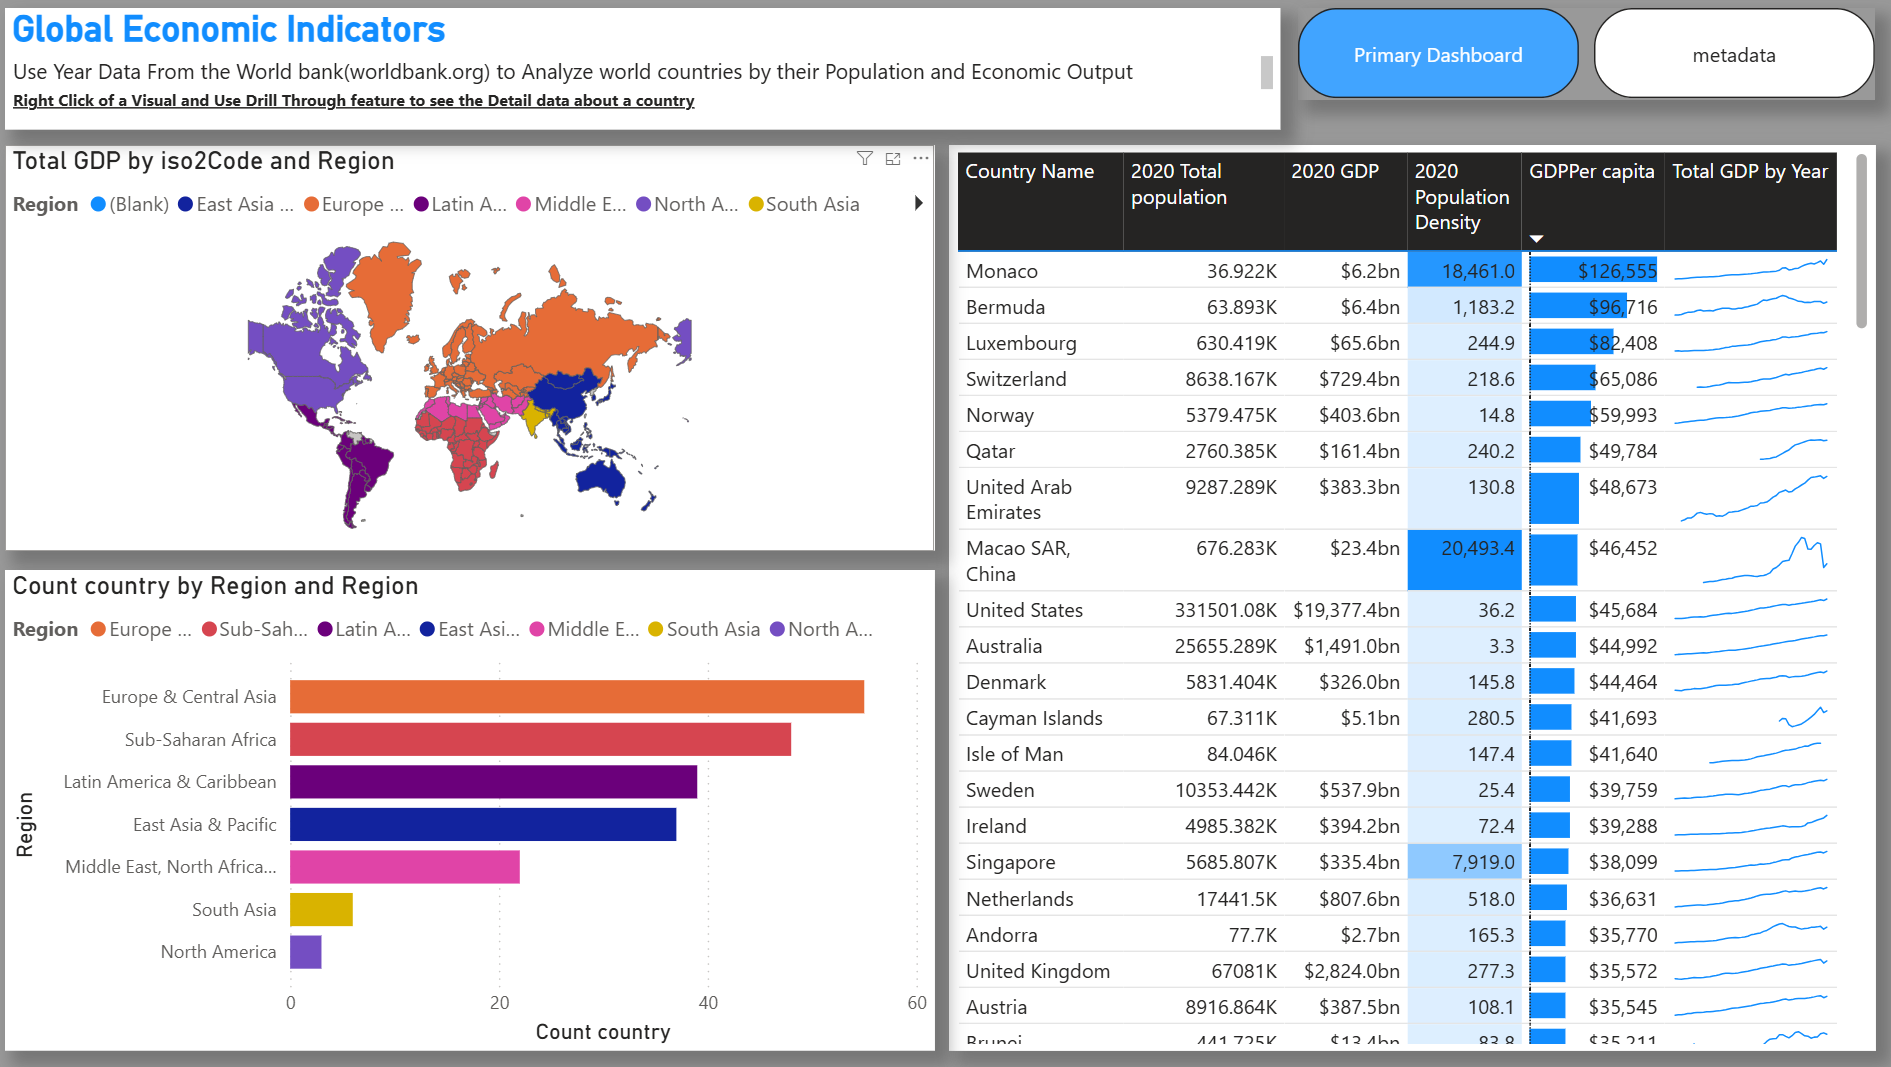

What the dashboard file says about the page in this screenshot:
{"tool":"powerbi","page":{"name":"Primary Dashboard","canvas":[1280,720],"ordinal":6},"visuals":[{"type":"tableEx","fields":{"Values":["Countries.Country Name","_MeasureTable.2020 Total population","_MeasureTable.2020 GDP","_MeasureTable.2020 Population Density","_MeasureTable.GDPPer capita","SparklineData(_MeasureTable.Total GDP_[Indicator.Year])"]},"box":[640,102.9,617.2,603.3],"z":0},{"type":"shapeMap","fields":{"Category":["Countries.iso2Code"],"Series":["Countries.Region"],"Value":["_MeasureTable.Total GDP"]},"box":[11.8,102.9,618.7,270.4],"z":1000},{"type":"barChart","fields":{"Y":["_MeasureTable.Count country"],"Category":["Countries.Region"],"Series":["Countries.Region"]},"box":[11.8,385.8,618.7,319.6],"z":2000},{"type":"textbox","title":"Global  Economic Indicators","box":[11.8,11.8,848.7,80.8],"z":3000},{"type":"pageNavigator","box":[872.9,11.8,384.3,61],"z":4000}]}

Visuals, with their boxes in screenshot pixels (x1, y1, x2, y2), scaled from the page's 1280x720 canvas onto the 1891x1067 screenshot:
tableEx - Countries.Country Name x _MeasureTable.2020 Total population: 946 152 1857 1047
shapeMap - Countries.iso2Code x Countries.Region: 17 152 931 553
barChart - _MeasureTable.Count country x Countries.Region: 17 572 931 1045
"Global  Economic Indicators" textbox: 17 17 1271 137
pageNavigator: 1290 17 1857 108
